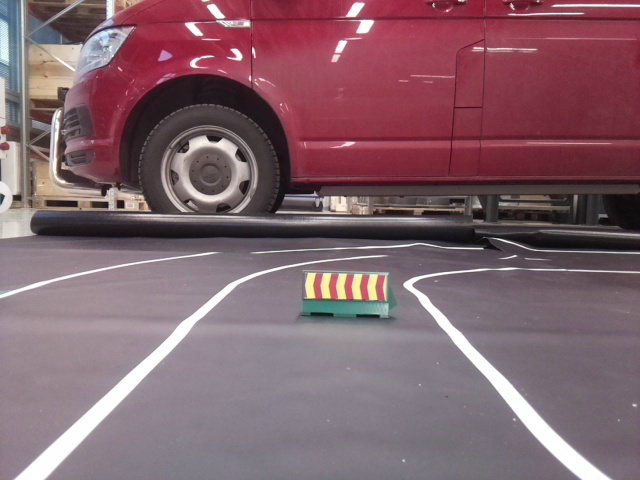ClosedRoadStand: (303, 268, 390, 316)
